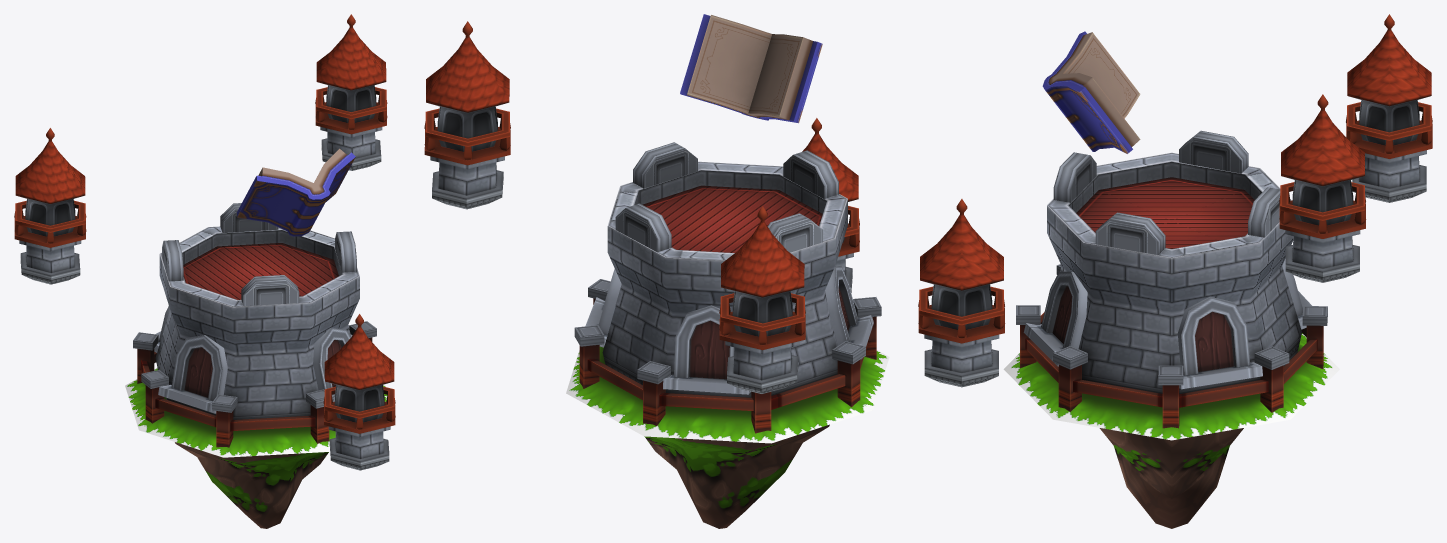
File: MageTower_Level2_F.FBX
3 views of the same model, side by side, from view 1: azimuth 30°, elevation 25°; view 2: azimuth 150°, elevation 25°; view 3: azimuth 270°, elevation 25° (orthographic). The views are drawn at different scales.
Visible parts, largest first — view 1: MageFort_Level004, MageFort_SpellBook003; view 2: MageFort_Level004, MageFort_SpellBook003; view 3: MageFort_Level004, MageFort_SpellBook003.
Boxes of the visible parts, left/top/right/bottom form: MageFort_Level004: left=14, top=14, right=395, bottom=528; MageFort_SpellBook003: left=236, top=148, right=355, bottom=236; MageFort_Level004: left=424, top=21, right=889, bottom=528; MageFort_SpellBook003: left=680, top=14, right=822, bottom=123; MageFort_Level004: left=918, top=14, right=1432, bottom=528; MageFort_SpellBook003: left=1042, top=31, right=1140, bottom=153.
Bounding box in the file's own units: 70.53 × 84.25 × 75.57.
